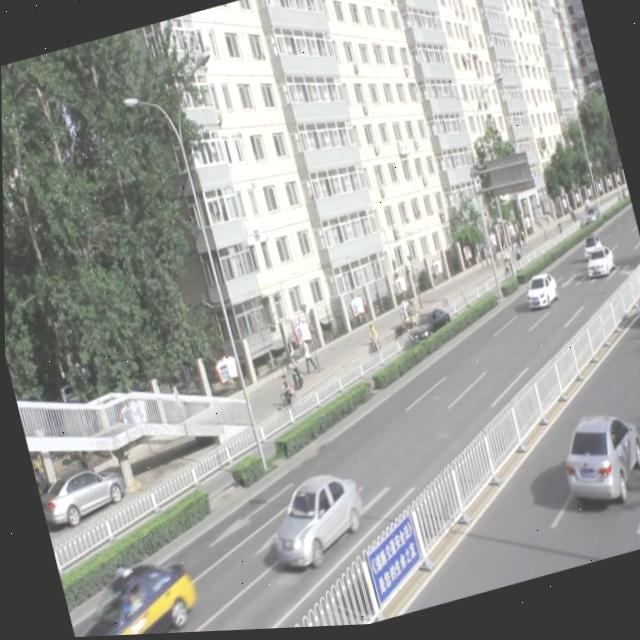car: (258, 466, 370, 580), (60, 552, 206, 638), (550, 406, 640, 515), (402, 305, 452, 352), (518, 273, 558, 316), (629, 285, 640, 330)
